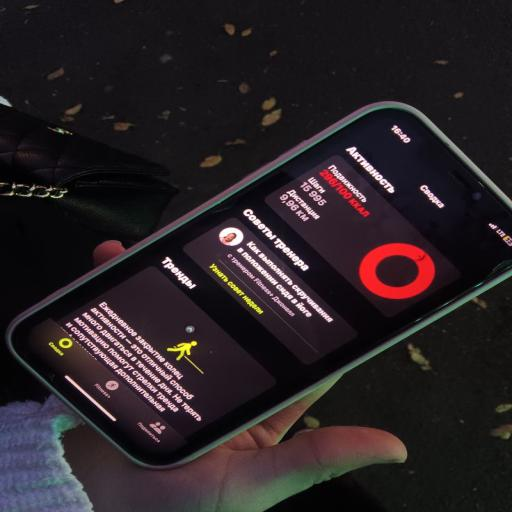curb: (0, 100, 512, 470)
